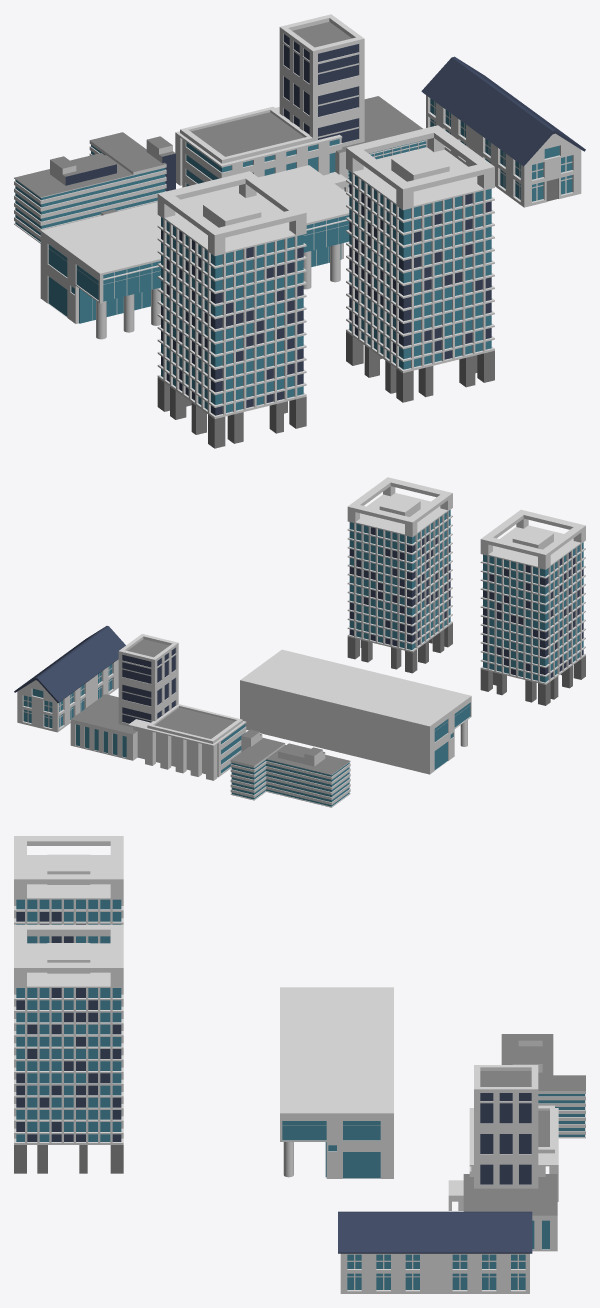
The model's file is prop_stage3_building.fbx.
The picture shows the model from 3 angles, top to bottom: view 1: azimuth 30°, elevation 25°; view 2: azimuth 150°, elevation 25°; view 3: azimuth 270°, elevation 25°; orthographic projection. The views are drawn at different scales.
Visible parts, largest first — view 1: Prop_stage3_GV, Prop_stage3_GV_2, Prop_stage3_NM, Prop_stage3_SP, Prop_stage3_AC, Prop_stage3_UIT; view 2: Prop_stage3_SP, Prop_stage3_GV_2, Prop_stage3_GV, Prop_stage3_NM, Prop_stage3_AC, Prop_stage3_UIT; view 3: Prop_stage3_GV_2, Prop_stage3_SP, Prop_stage3_AC, Prop_stage3_NM, Prop_stage3_GV, Prop_stage3_UIT.
Boxes of the visible parts, box(x1,y1,x2,y2) form: Prop_stage3_GV: box(157, 171, 306, 448); Prop_stage3_GV_2: box(346, 125, 494, 402); Prop_stage3_NM: box(175, 14, 427, 192); Prop_stage3_SP: box(40, 165, 349, 339); Prop_stage3_AC: box(421, 56, 585, 207); Prop_stage3_UIT: box(14, 132, 175, 243); Prop_stage3_SP: box(240, 649, 471, 774); Prop_stage3_GV_2: box(347, 477, 452, 673); Prop_stage3_GV: box(480, 509, 585, 705); Prop_stage3_NM: box(70, 634, 246, 780); Prop_stage3_AC: box(14, 626, 125, 732); Prop_stage3_UIT: box(230, 729, 350, 807); Prop_stage3_GV_2: box(14, 924, 123, 1173); Prop_stage3_SP: box(280, 987, 393, 1178); Prop_stage3_AC: box(338, 1211, 532, 1293); Prop_stage3_NM: box(448, 1065, 558, 1251); Prop_stage3_GV: box(14, 836, 123, 943); Prop_stage3_UIT: box(501, 1034, 585, 1138).
Bounding box in the file's own units: 581 × 220 × 553.
Materials: 1 (1 with a texture image).
